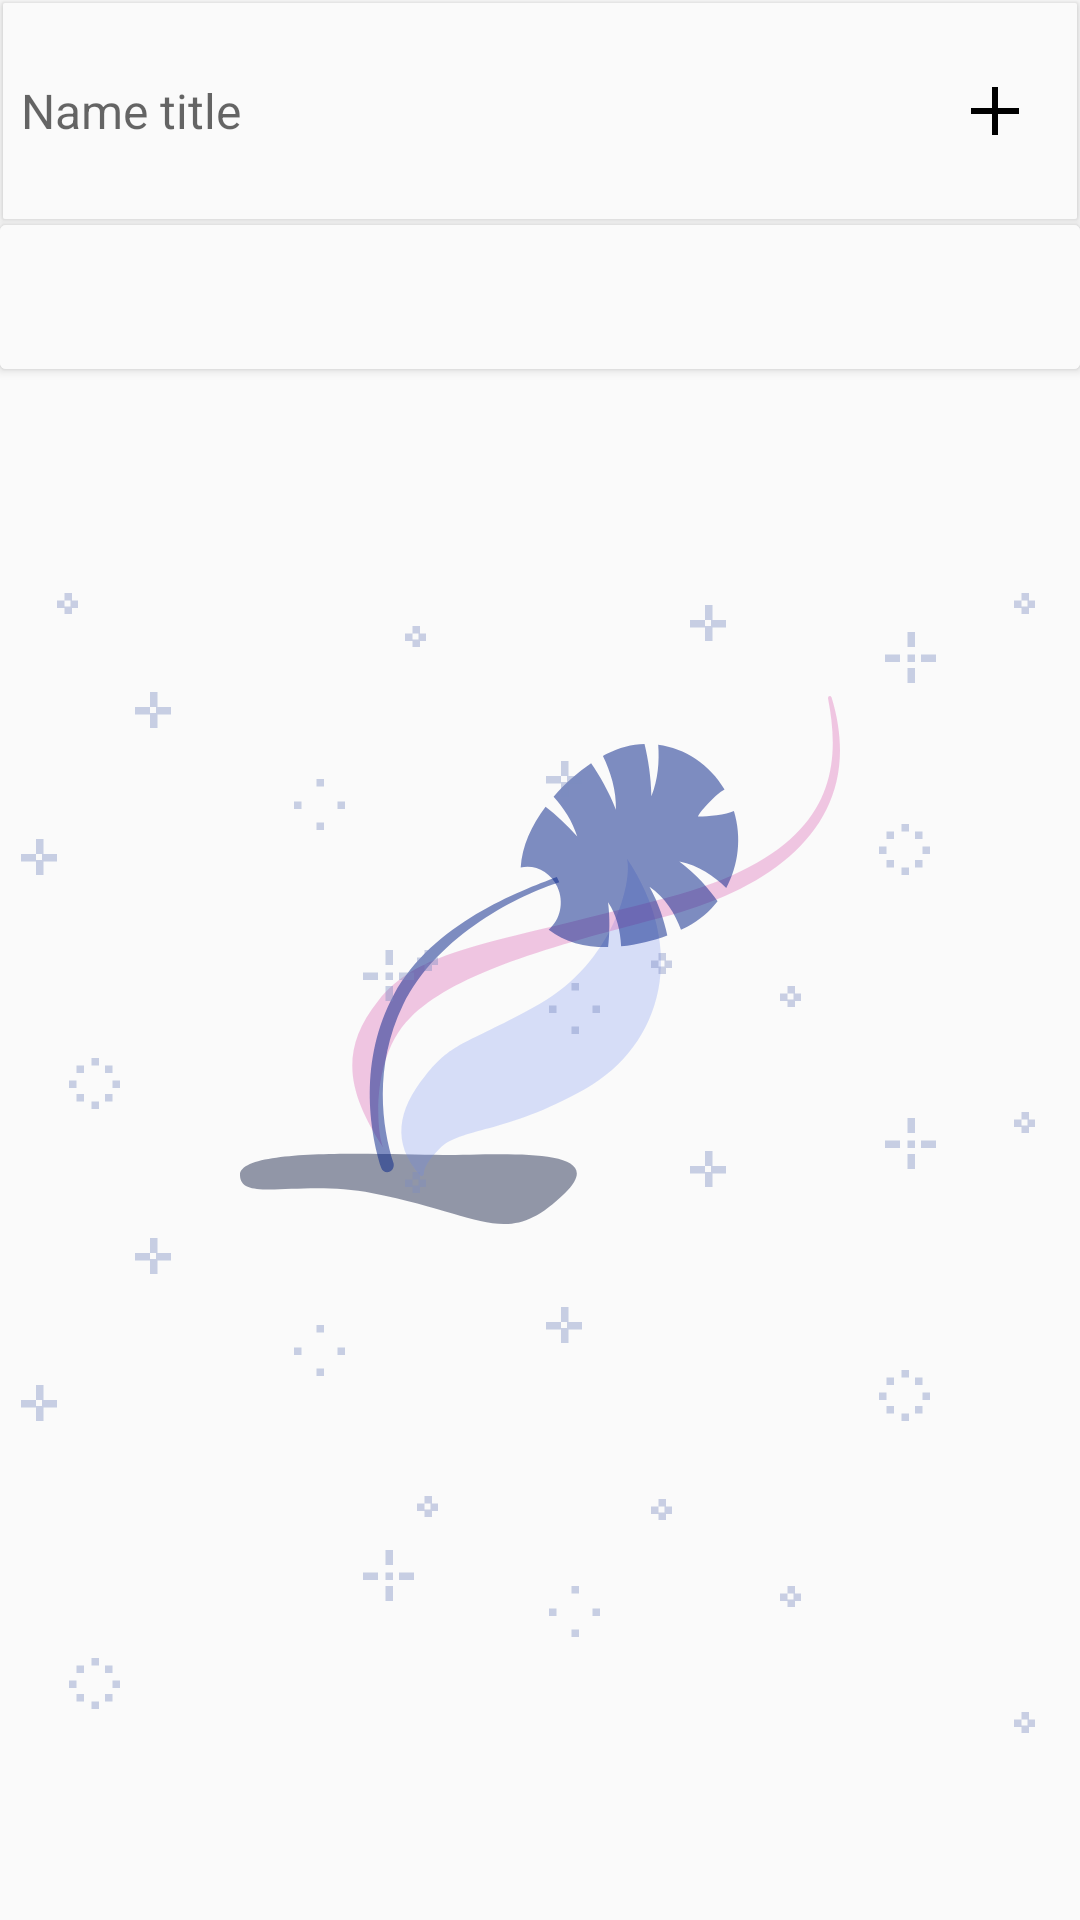

Icon click points for this 1080 x 1920 phone screenshot, format (x=x, y=y):
add: (x=995, y=111)
